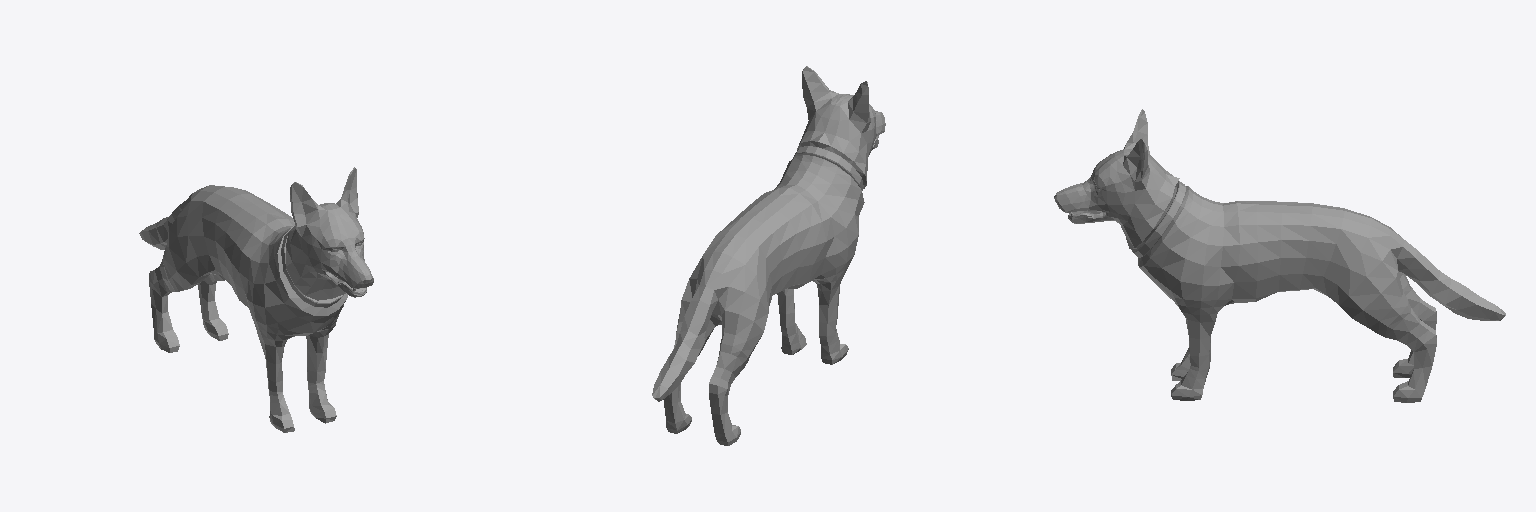
Rendered from dog.obj.
3 renders of one model, left to right at view 1: azimuth 30°, elevation 25°; view 2: azimuth 150°, elevation 25°; view 3: azimuth 270°, elevation 25°, orthographic.
Parts seen in each view (by area): view 1: bodyShape, collarShap; view 2: bodyShape, collarShap; view 3: bodyShape, collarShap.
Boxes of the visible parts, <box> form: bodyShape: <box>139,167,373,432</box>; collarShap: <box>281,226,343,307</box>; bodyShape: <box>652,66,885,445</box>; collarShap: <box>793,146,863,190</box>; bodyShape: <box>1054,109,1505,402</box>; collarShap: <box>1131,181,1186,257</box>.
Bounding box in the file's own units: 0.6904 × 2.08 × 3.23.